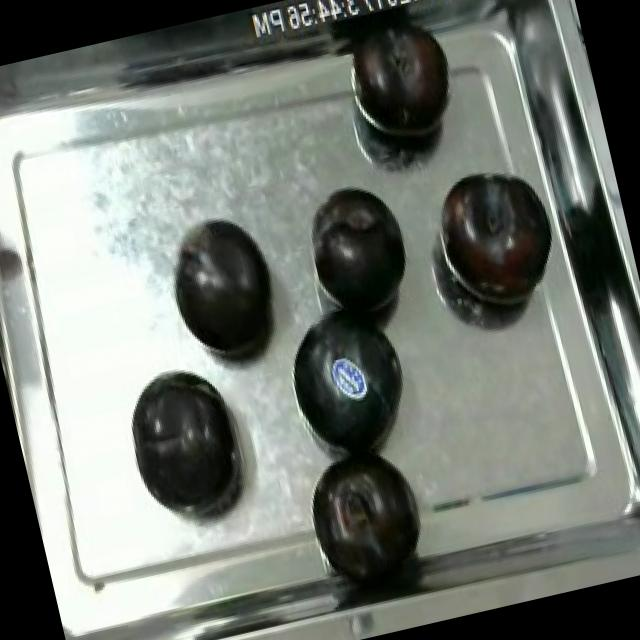Fruit: (271, 284, 426, 468), (422, 150, 572, 324), (152, 199, 295, 379), (111, 358, 255, 526), (334, 2, 474, 160), (294, 168, 425, 326), (296, 438, 432, 586)
